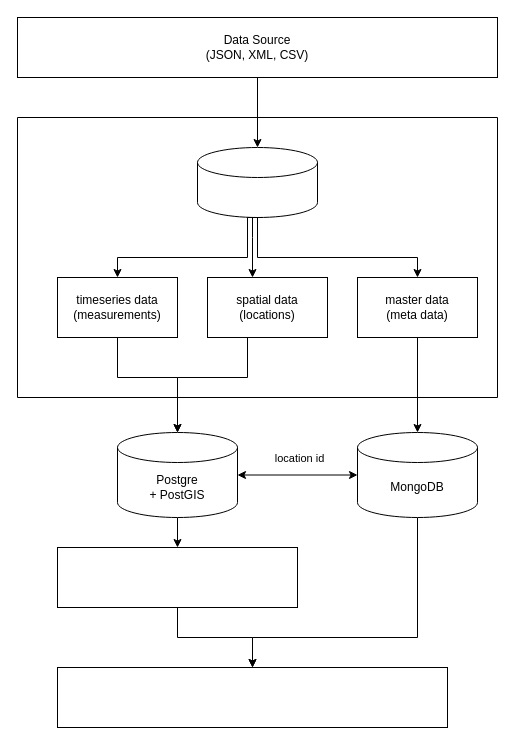
The diagram is 515 pixels wide and 745 high, and some of its shapes have lost their labels. Each missing label, with the centre of its shape:
DuckDB: point 257,182
FROST Server OpenThingsAPI: point 177,577
Grafana: point 252,697
